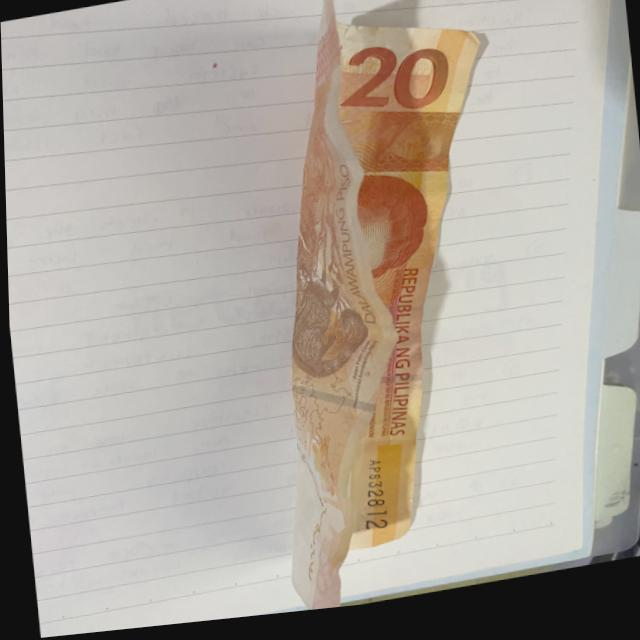concealed_value: (352, 120, 452, 181)
security_thread: (290, 388, 384, 421)
serial_number: (345, 454, 397, 544)
value: (329, 33, 455, 140)
